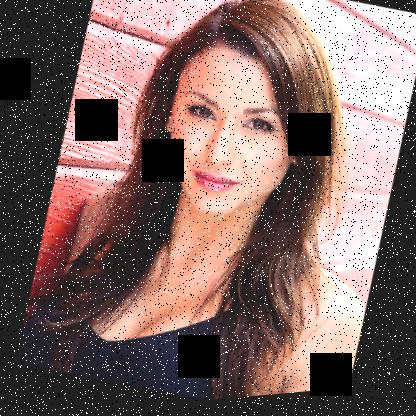Female: (138, 27, 330, 241)
